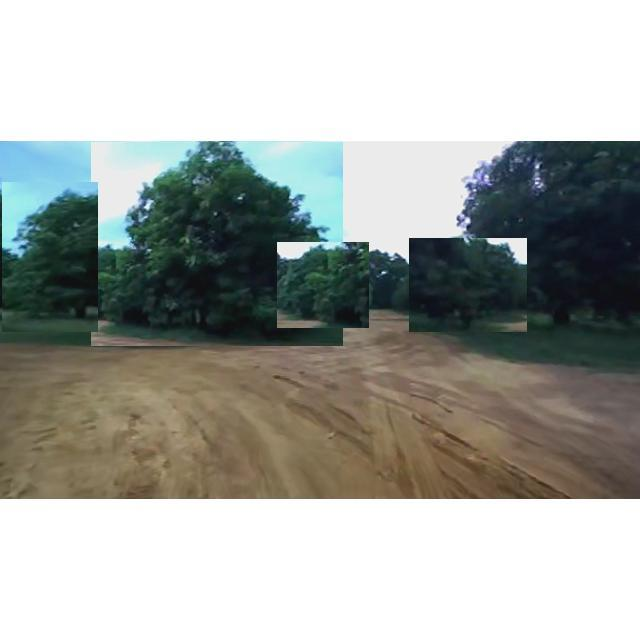tree: (91, 142, 343, 346), (450, 144, 640, 330), (2, 182, 98, 332), (409, 238, 527, 332), (277, 242, 369, 328), (356, 250, 409, 312)
